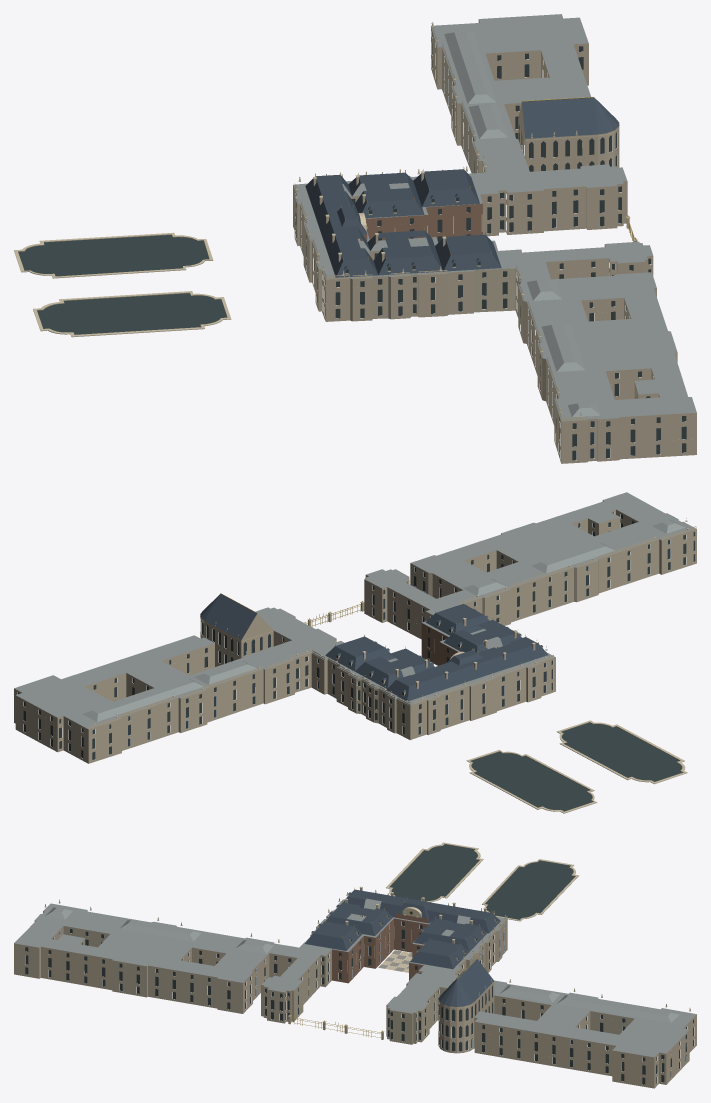
File: chateau-de-versailles-far.glb
3 views of the same model, one above another, from view 1: azimuth 30°, elevation 25°; view 2: azimuth 150°, elevation 25°; view 3: azimuth 270°, elevation 25° (orthographic). The views are drawn at different scales.
Visible parts, largest first — view 1: chateau-de-versailles-0-lead, chateau-de-versailles-0-stone, chateau-de-versailles-0-glass, chateau-de-versailles-0-roof, chateau-de-versailles-0-trim, chateau-de-versailles-0-brick; view 2: chateau-de-versailles-0-stone, chateau-de-versailles-0-lead, chateau-de-versailles-0-glass, chateau-de-versailles-0-roof, chateau-de-versailles-0-trim, chateau-de-versailles-0-brick; view 3: chateau-de-versailles-0-stone, chateau-de-versailles-0-lead, chateau-de-versailles-0-glass, chateau-de-versailles-0-roof, chateau-de-versailles-0-brick, chateau-de-versailles-0-trim, chateau-de-versailles-0-gold.
Boxes of the visible parts, <box> form: chateau-de-versailles-0-lead: <box>293,14,696,421</box>; chateau-de-versailles-0-stone: <box>14,19,696,463</box>; chateau-de-versailles-0-glass: <box>18,32,686,460</box>; chateau-de-versailles-0-roof: <box>305,97,619,277</box>; chateau-de-versailles-0-trim: <box>14,22,637,421</box>; chateau-de-versailles-0-brick: <box>360,203,482,240</box>; chateau-de-versailles-0-stone: <box>14,500,696,813</box>; chateau-de-versailles-0-lead: <box>14,492,696,729</box>; chateau-de-versailles-0-glass: <box>17,512,695,811</box>; chateau-de-versailles-0-roof: <box>200,594,548,701</box>; chateau-de-versailles-0-trim: <box>88,518,696,812</box>; chateau-de-versailles-0-brick: <box>421,623,458,665</box>; chateau-de-versailles-0-stone: <box>14,843,696,1088</box>; chateau-de-versailles-0-lead: <box>14,897,696,1057</box>; chateau-de-versailles-0-glass: <box>25,844,693,1084</box>; chateau-de-versailles-0-roof: <box>305,889,500,1006</box>; chateau-de-versailles-0-brick: <box>332,913,428,983</box>; chateau-de-versailles-0-trim: <box>44,842,690,1032</box>; chateau-de-versailles-0-gold: <box>289,888,492,1037</box>.
Bounding box in the file's own units: 349 × 44 × 409.
